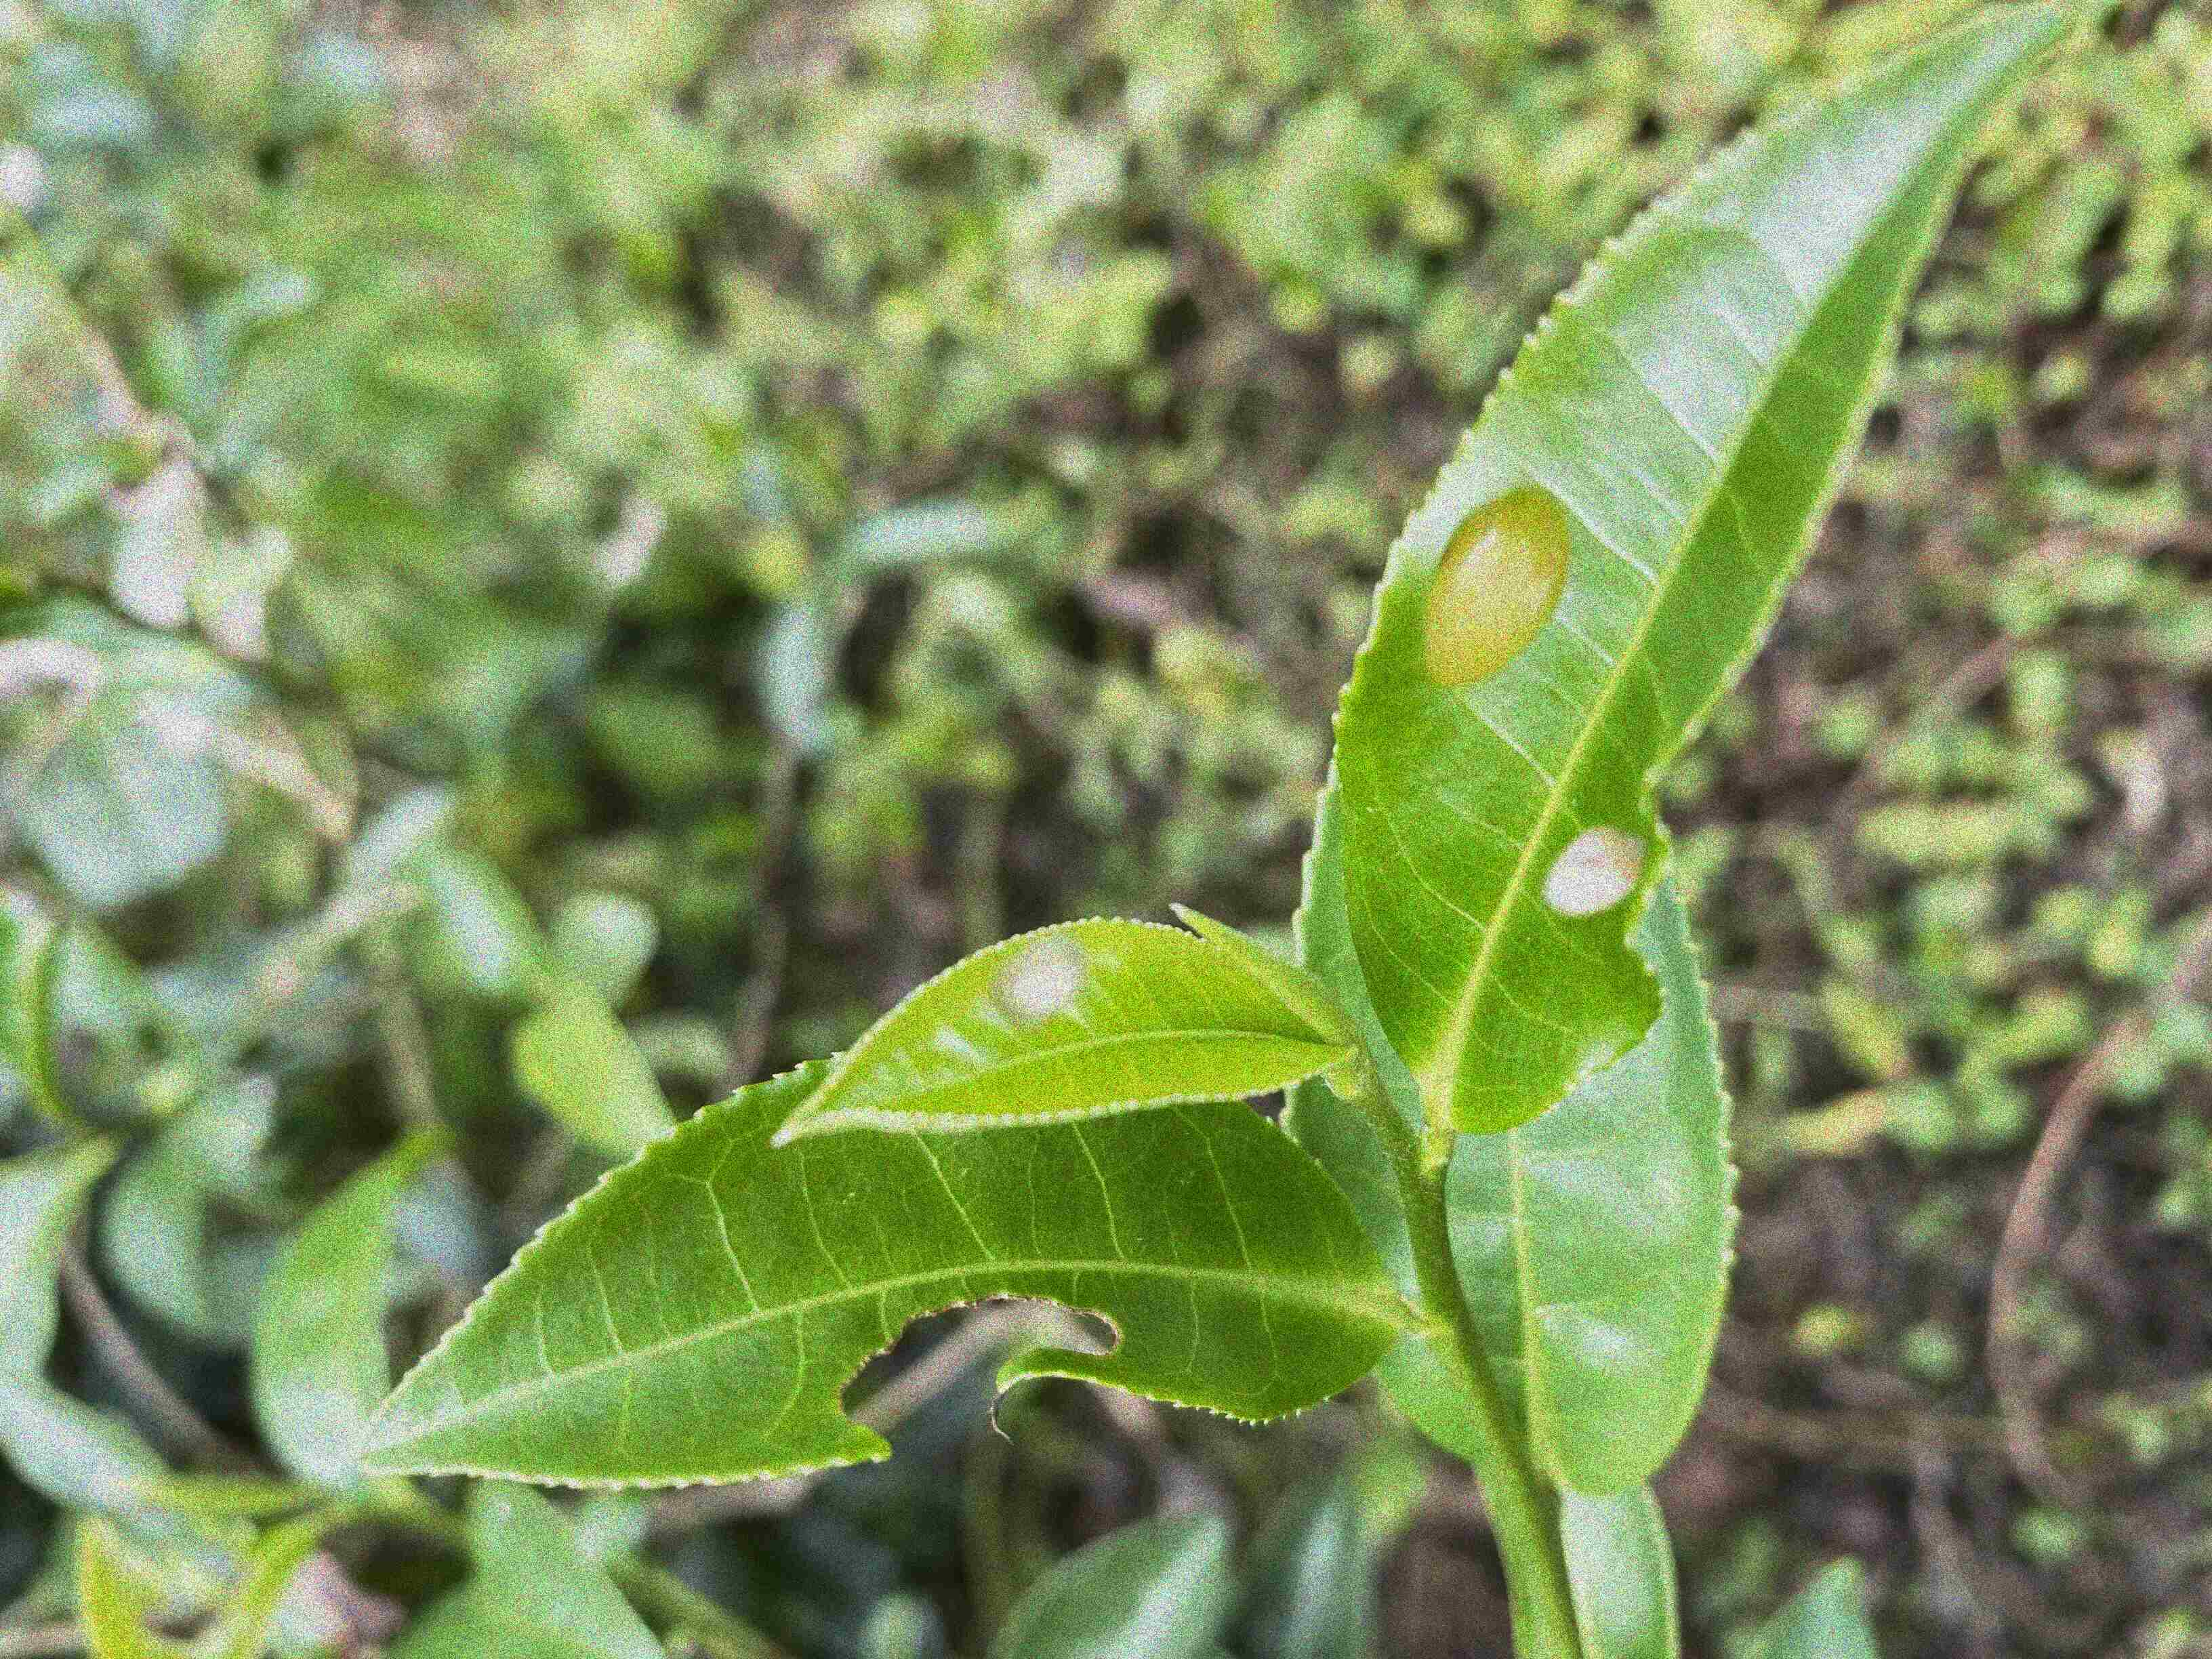chabing_high: (1336, 3, 2078, 1134)
chabing_low: (768, 913, 1357, 1154)
chihuo_low: (354, 1046, 1397, 1495)
